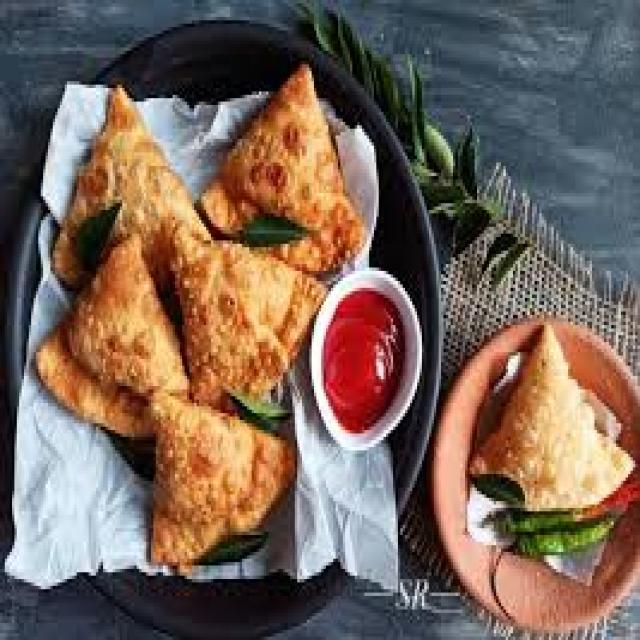SAMOSA: (199, 64, 362, 274), (53, 85, 209, 284), (36, 234, 187, 433), (477, 325, 630, 508), (173, 214, 324, 393), (153, 393, 290, 559)
